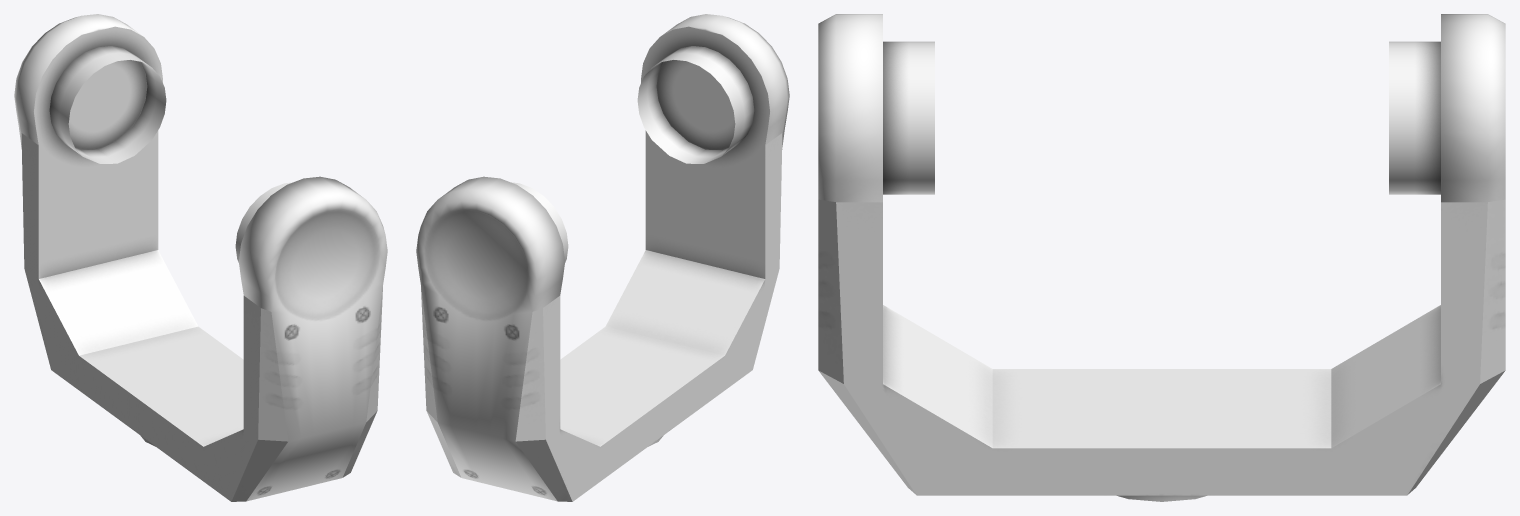
File: fixture_base.obj
The picture shows the model from 3 angles, left to right: view 1: azimuth 30°, elevation 25°; view 2: azimuth 150°, elevation 25°; view 3: azimuth 270°, elevation 25°; orthographic projection. The views are drawn at different scales.
Parts seen in each view (by area): view 1: arm_Cube.001; view 2: arm_Cube.001; view 3: arm_Cube.001.
Part boxes in pixels (x1,y1,x2,y2): arm_Cube.001: [14, 14, 387, 501]; arm_Cube.001: [416, 14, 789, 501]; arm_Cube.001: [818, 14, 1505, 501].
Bounding box in the file's own units: 77.94 × 187 × 264.
1 material, 1 textured.
